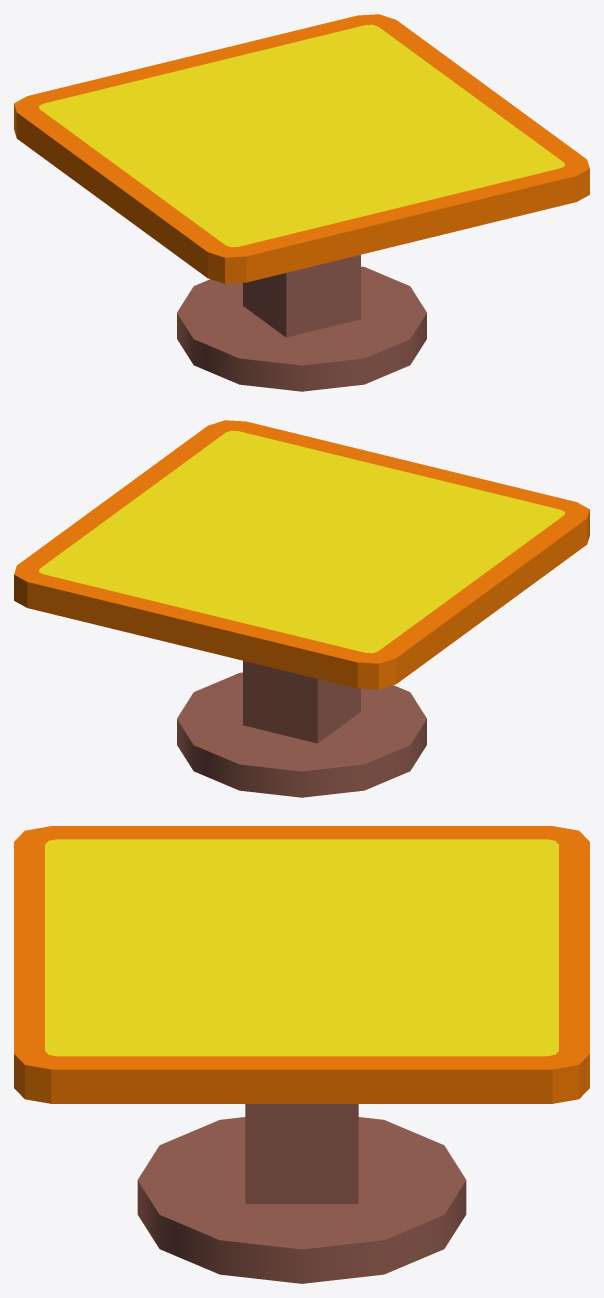
File: TableA2_geo.fbx
The picture shows the model from 3 angles, top to bottom: view 1: azimuth 30°, elevation 25°; view 2: azimuth 150°, elevation 25°; view 3: azimuth 270°, elevation 25°; orthographic projection. The views are drawn at different scales.
Visible parts, largest first — view 1: TableA2_geo; view 2: TableA2_geo; view 3: TableA2_geo.
Boxes of the visible parts, x1,y1,x2,y2 form: TableA2_geo: (14, 14, 589, 391); TableA2_geo: (14, 420, 589, 797); TableA2_geo: (14, 826, 589, 1283).
Bounding box in the file's own units: 1.33 × 1.33 × 0.681.
